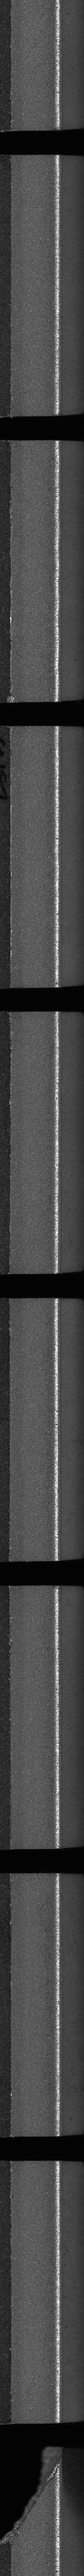Chip: (0, 2443, 66, 2553)
